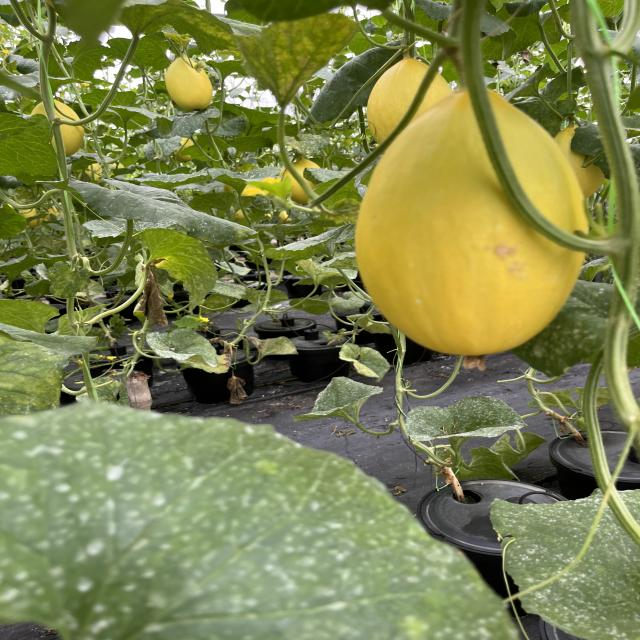CMV: (248, 334, 300, 358)
bacterial wilt: (139, 263, 172, 326), (176, 352, 233, 376)
downy mildew: (226, 12, 368, 109), (116, 0, 240, 59), (136, 227, 220, 313), (0, 331, 73, 420), (337, 341, 391, 384), (45, 260, 95, 299)
healthy: (0, 112, 63, 178)
powdery mildew: (0, 397, 523, 640), (484, 478, 640, 640), (65, 176, 262, 248), (403, 394, 528, 443), (292, 374, 388, 426), (261, 222, 358, 264), (145, 326, 221, 370), (143, 106, 221, 142), (204, 165, 282, 182)
